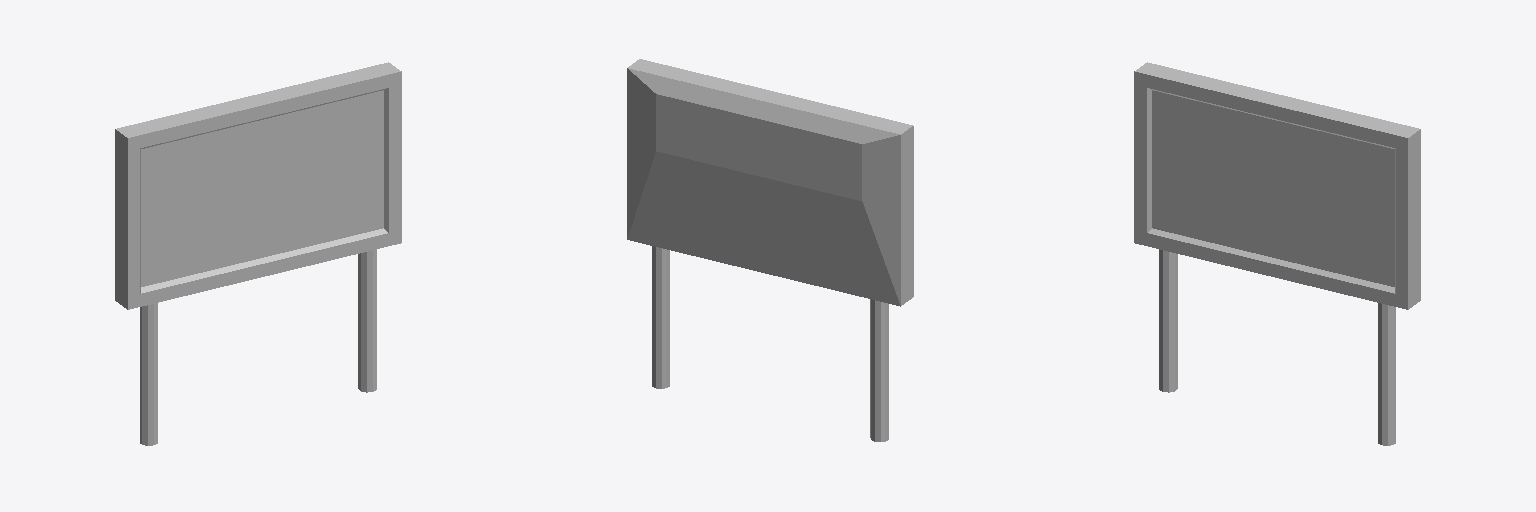
The model's file is obstacle_screen.obj.
3 renders of one model, left to right at view 1: azimuth 30°, elevation 25°; view 2: azimuth 150°, elevation 25°; view 3: azimuth 330°, elevation 25°, orthographic.
Visible parts, largest first — view 1: Cylinder.006; view 2: Cylinder.006; view 3: Cylinder.006.
Part boxes in pixels (bbox=[...]): Cylinder.006: bbox=[115, 62, 401, 445]; Cylinder.006: bbox=[627, 59, 913, 441]; Cylinder.006: bbox=[1134, 62, 1420, 445].
Bounding box in the file's own units: 10 × 11 × 1.1.